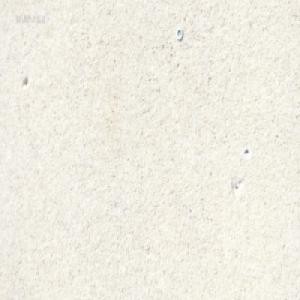Washer: (175, 27, 183, 41)
